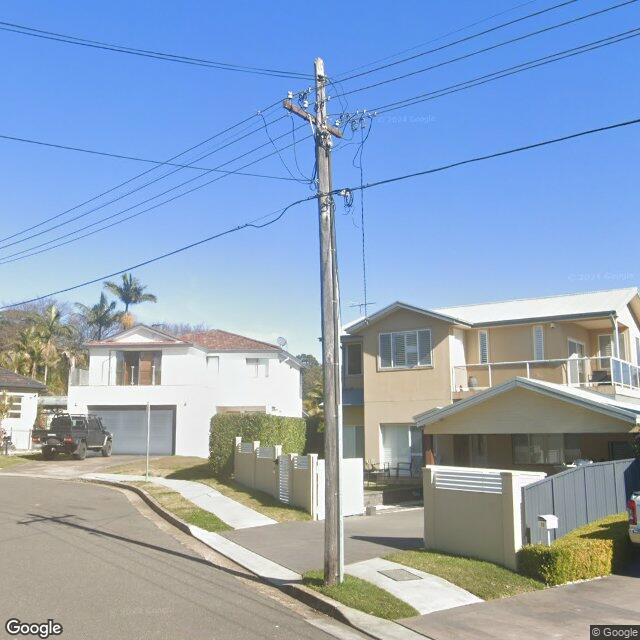crossarm: (283, 98, 345, 139)
timber-pole: (314, 57, 342, 586)
